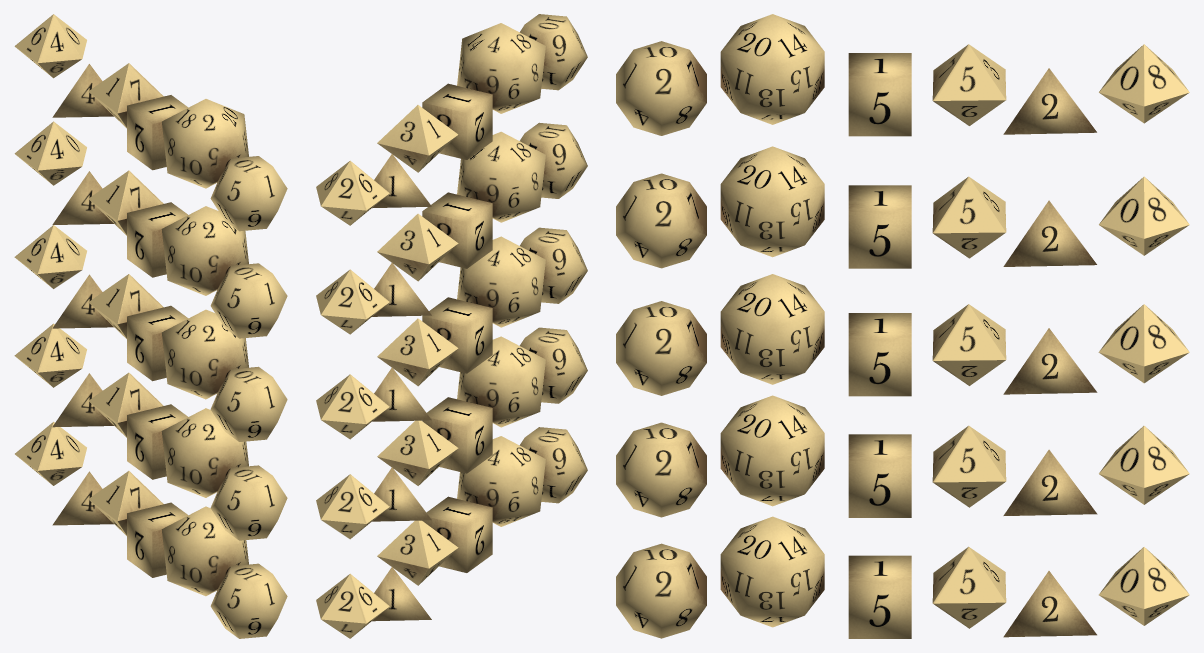
File: Dice3.fbx
3 views of the same model, side by side, from view 1: azimuth 30°, elevation 25°; view 2: azimuth 150°, elevation 25°; view 3: azimuth 270°, elevation 25° (orthographic). The views are drawn at different scales.
Parts seen in each view (by area): view 1: D20.004, D20.003, D20.002, D20.001, D20, D12.003, D12.001, D12.004, D12, D12.002, D6, D6.002 (+18 smaller); view 2: D20.004, D20.003, D20.002, D20.001, D20, D6.004, D6.003, D6.002, D6.001, D6, D12.001, D12.002 (+18 smaller); view 3: D20.004, D20.002, D20.003, D20, D20.001, D12.001, D12.002, D12.004, D12.003, D12, D6.001, D6.003 (+18 smaller).
Part boxes in pixels (x1,y1,x2,y2): D20.004: (162,99,248,188); D20.003: (161,206,248,295); D20.002: (161,309,248,399); D20.001: (161,408,248,497); D20: (161,506,248,596); D12.003: (210,263,287,338); D12.001: (210,465,287,540); D12.004: (210,156,287,231); D12: (210,563,287,638); D12.002: (210,366,287,441); D6: (127,502,188,577); D6.002: (127,305,188,381); D20.004: (457,23,545,113); D20.003: (457,131,545,222); D20.002: (457,236,545,327); D20.001: (457,336,545,427); D20: (457,436,545,526); D6.004: (422,83,492,159); D6.003: (422,192,492,268); D6.002: (422,297,492,373); D6.001: (422,397,492,473); D6: (422,496,492,572); D12.001: (519,327,587,403); D12.002: (520,227,587,303); D20.004: (720,14,824,124); D20.002: (720,274,824,384); D20.003: (720,146,824,257); D20: (720,516,824,627); D20.001: (720,395,824,506); D12.001: (616,422,706,517); D12.002: (616,301,706,395); D12.004: (616,41,706,135); D12.003: (616,173,706,268); D12: (616,543,706,638); D6.001: (848,434,911,517); D6.003: (848,185,911,268).
Size of the model in its own units: 189 by 1106 by 937.
